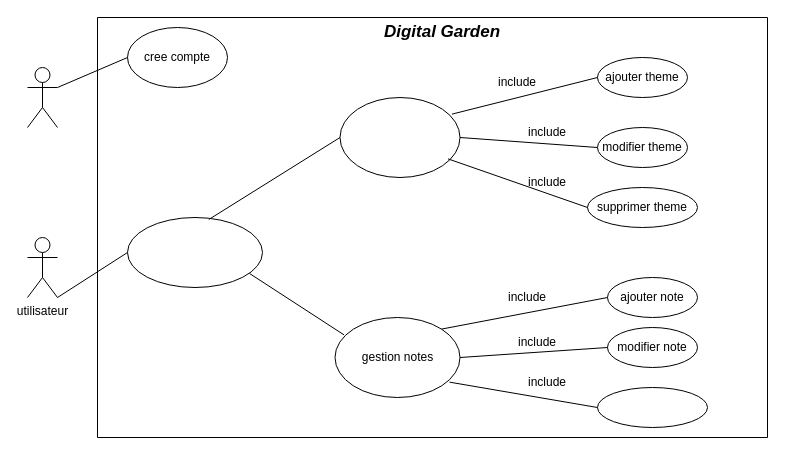
Image size: 785x455. Some labels were removed from this diagram. The shapes that lost their labels are listed below. From the top down, each one's box as (x1, y1, x2, y2) in pixels, then its label:
(26, 66, 58, 128): visiteur
(339, 96, 460, 178): gestion themes
(126, 216, 262, 288): se connecter
(596, 386, 708, 428): supprimer note
